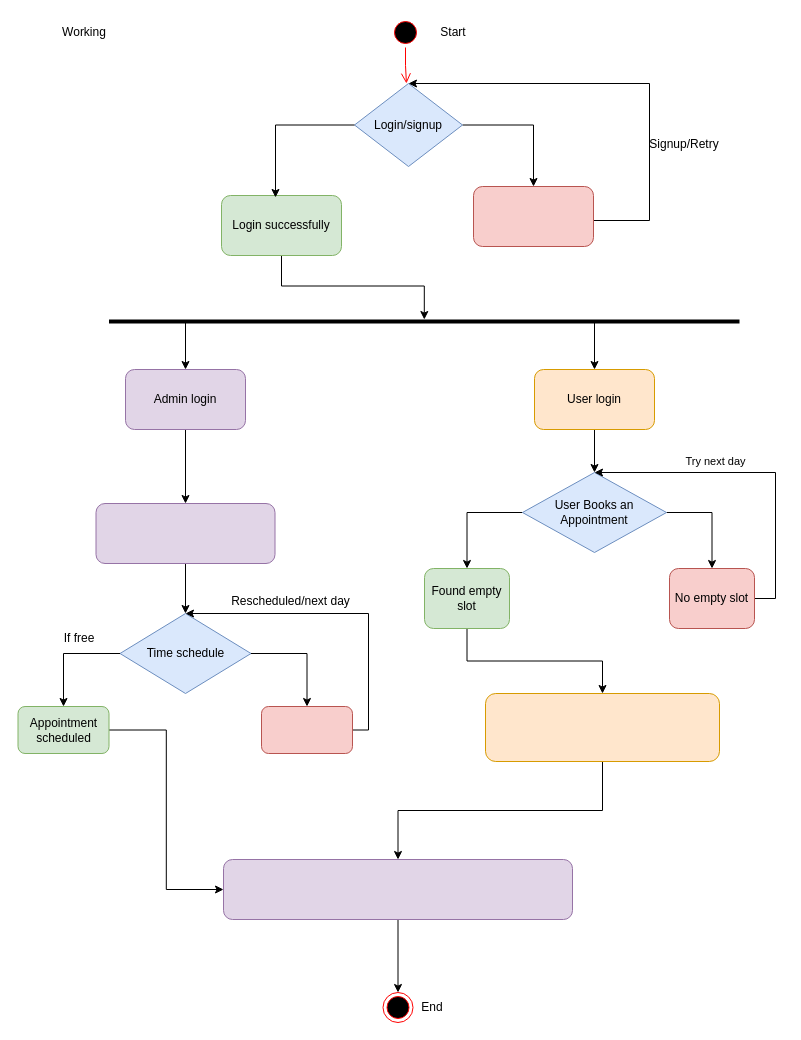
This 801x1040 diagram has some shape labels left out. Here are the shapes that lost their labels. From the top down, the box of each, then its label:
(472, 186, 594, 246): Account not found
(95, 502, 275, 564): Requested appointments
(260, 706, 352, 754): Appointment Re-scheduled
(484, 692, 720, 762): Book slot with description
(222, 858, 572, 920): Appointment booked
